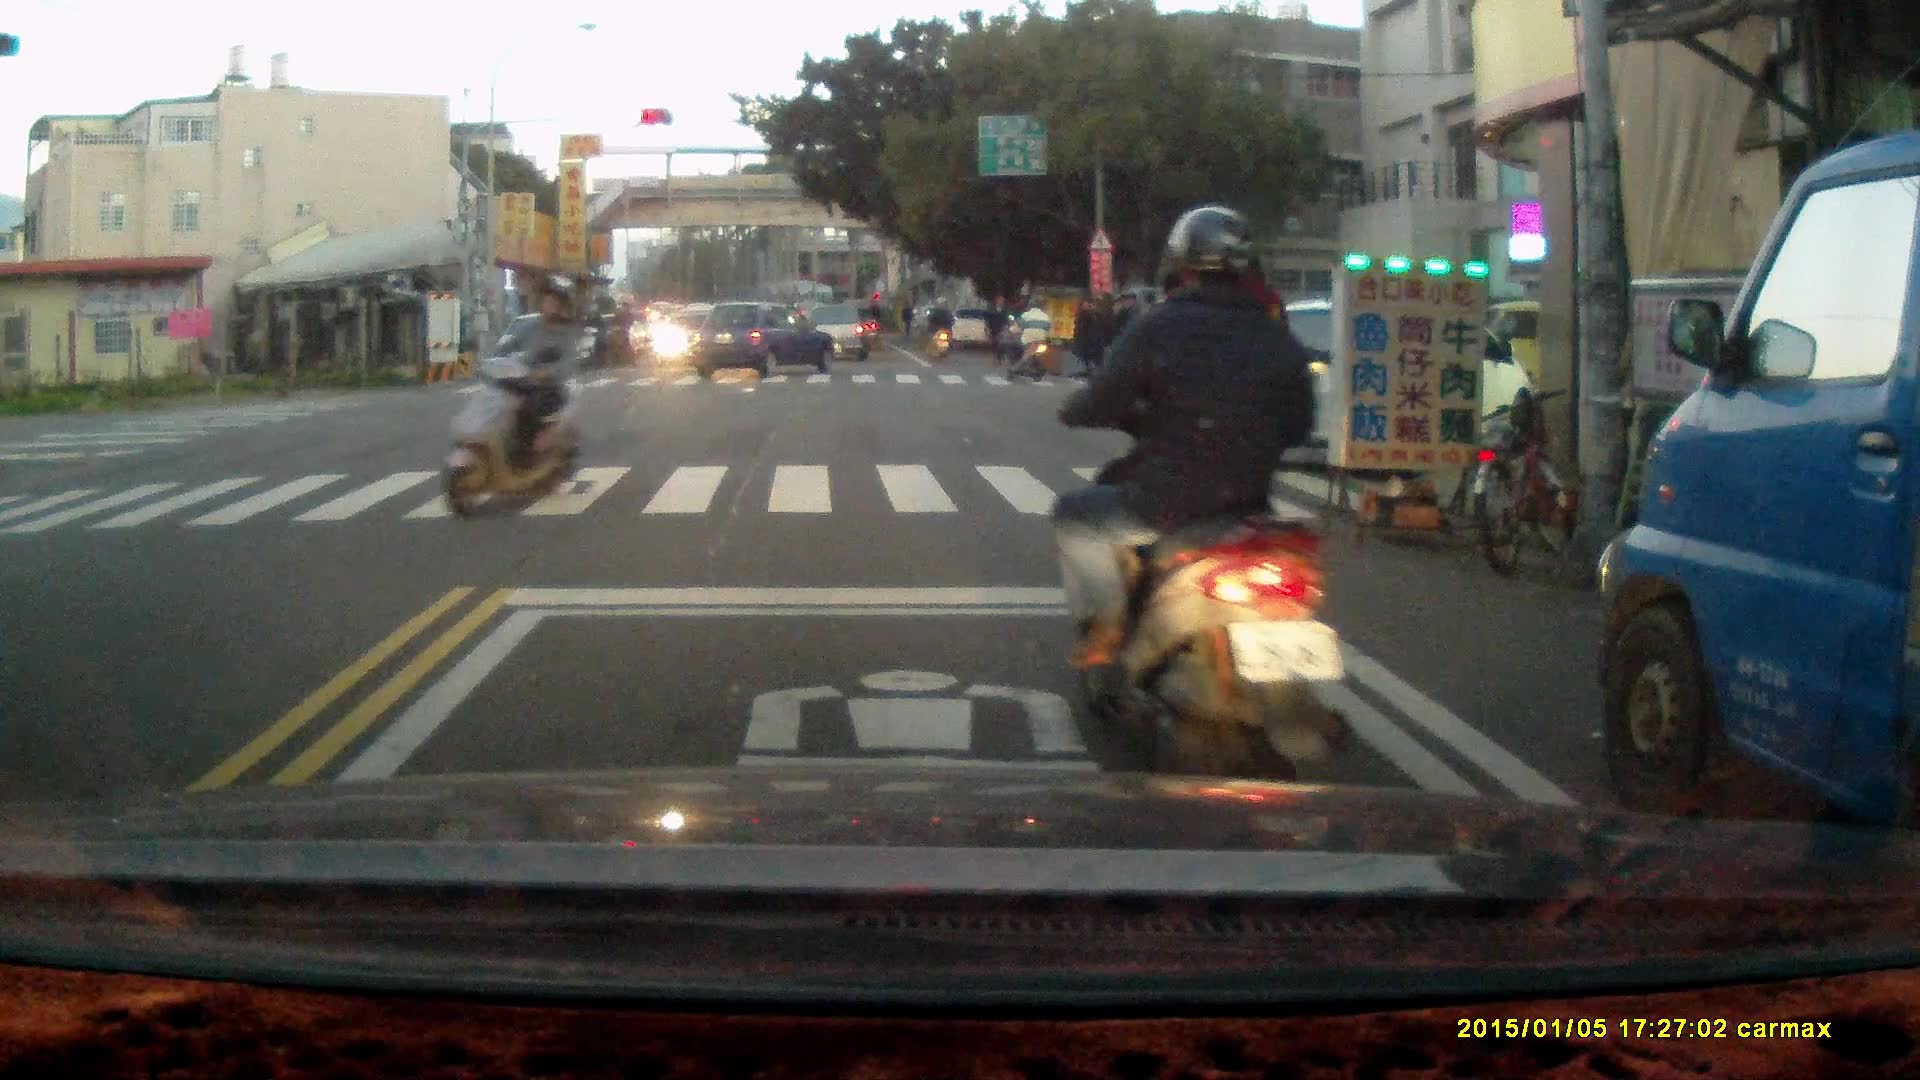pedestrian: (1115, 291, 1146, 370), (1071, 293, 1097, 369), (983, 291, 1007, 366)
rider: (1034, 202, 1363, 825), (439, 277, 583, 520), (1004, 294, 1057, 380), (575, 302, 607, 370), (924, 292, 954, 363), (602, 301, 632, 363)
vehicle: (1598, 132, 1920, 884), (1233, 296, 1533, 459), (689, 302, 835, 383), (498, 313, 586, 377), (798, 302, 875, 367)
